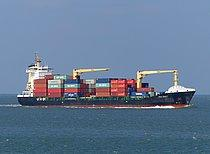Ship: (13, 53, 199, 115)
